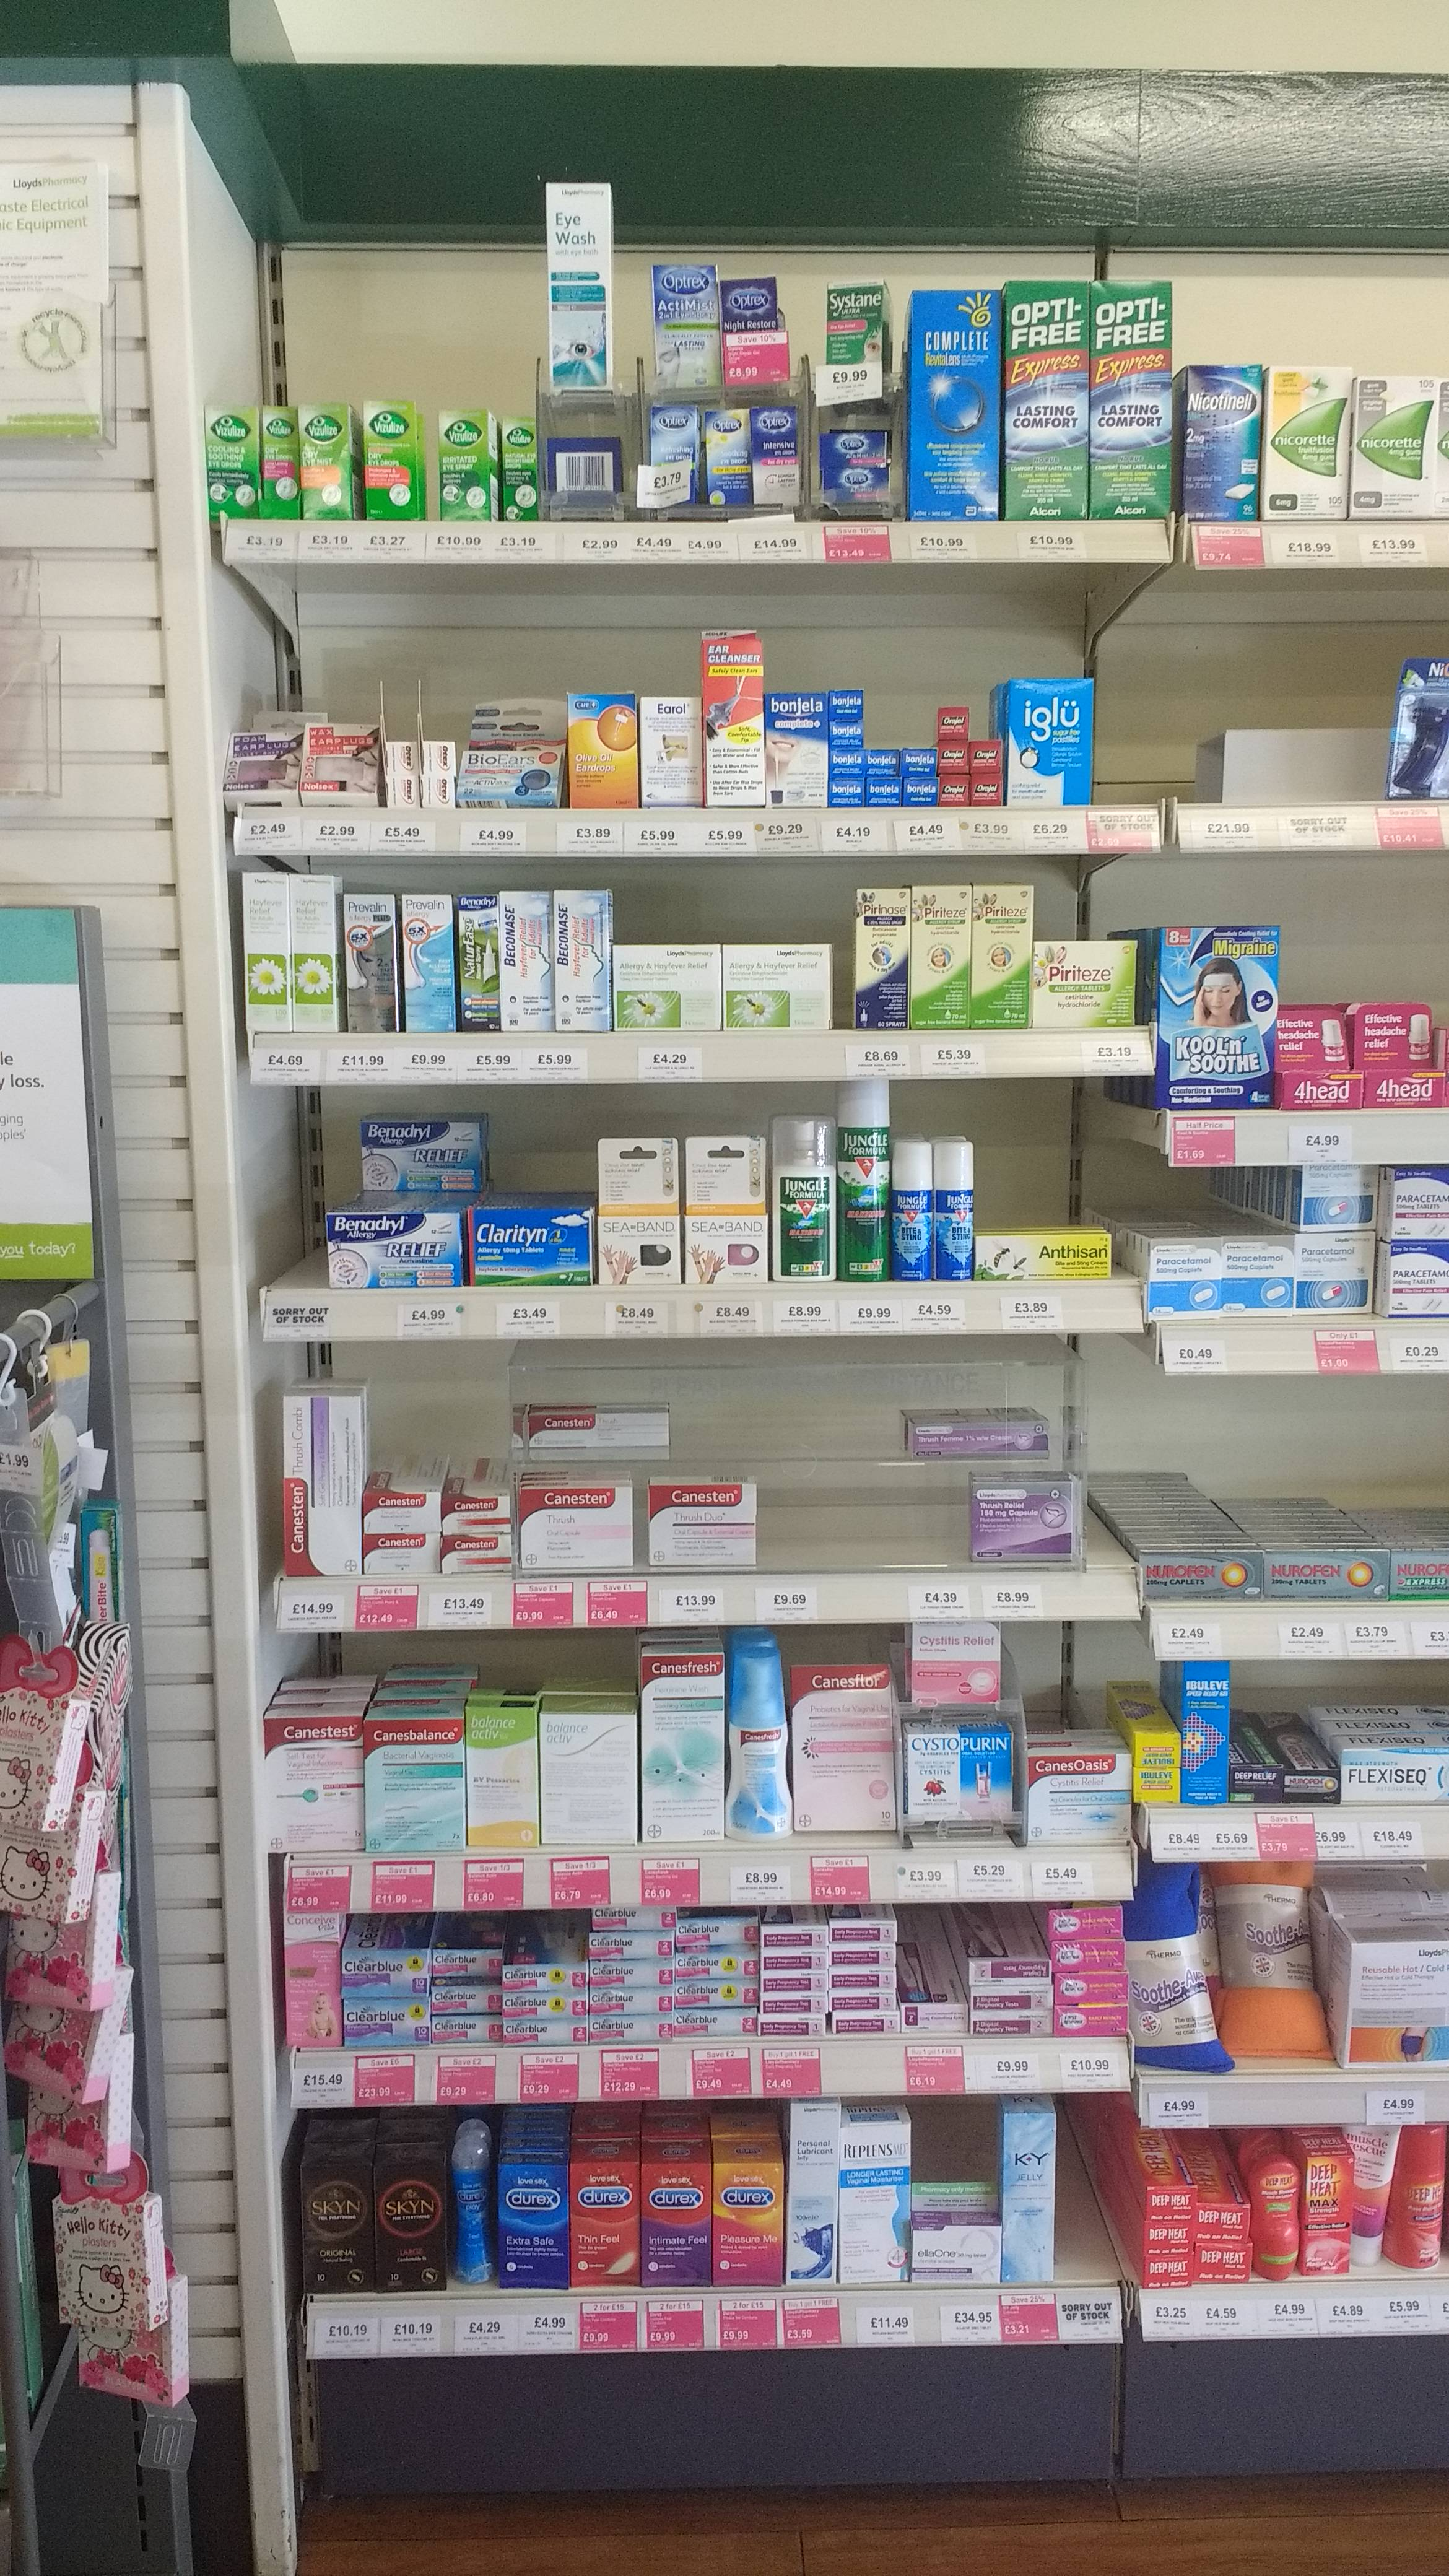product: (904, 292, 996, 517), (1161, 925, 1277, 1093), (1005, 287, 1085, 517), (1093, 280, 1168, 520), (637, 1656, 725, 1840), (800, 1665, 892, 1835), (260, 1720, 364, 1867), (1332, 1939, 1449, 2070), (1139, 1844, 1207, 2065), (281, 1398, 363, 1578), (1226, 1851, 1299, 2047), (547, 182, 612, 393), (366, 1716, 464, 1854), (1007, 678, 1099, 809), (543, 1716, 632, 1851), (1359, 380, 1445, 517), (1270, 363, 1346, 517), (1185, 368, 1260, 517), (685, 1138, 763, 1279), (842, 2123, 908, 2289), (605, 1138, 678, 1284), (326, 1214, 458, 1293), (295, 2155, 368, 2300), (842, 1072, 892, 1284), (464, 1707, 536, 1849), (768, 1122, 832, 1279), (1024, 1748, 1123, 1849), (1007, 2109, 1062, 2286), (736, 1649, 787, 1836), (522, 1488, 630, 1575), (573, 2157, 640, 2293), (973, 1477, 1083, 1560), (709, 642, 763, 812), (908, 1729, 1008, 1817), (375, 2162, 444, 2291), (283, 1898, 341, 2051), (915, 2185, 1000, 2289), (363, 1120, 485, 1192), (718, 269, 793, 387), (614, 947, 720, 1028), (640, 2157, 708, 2284), (724, 943, 830, 1023), (649, 1488, 759, 1564), (1355, 1012, 1447, 1102), (1391, 2130, 1449, 2272), (506, 2157, 566, 2293), (472, 1214, 584, 1284), (520, 1407, 676, 1456), (975, 885, 1030, 1024), (1039, 939, 1129, 1024), (793, 2100, 833, 2288), (918, 886, 970, 1031), (499, 895, 552, 1035), (395, 895, 449, 1030), (824, 281, 885, 402), (577, 695, 637, 816), (1295, 1235, 1380, 1318), (915, 1622, 1000, 1706), (860, 892, 913, 1024), (640, 692, 699, 812), (290, 878, 336, 1030), (557, 892, 609, 1028), (724, 2162, 777, 2289), (244, 872, 287, 1031), (662, 267, 717, 387), (460, 748, 563, 812), (299, 407, 354, 525), (221, 725, 299, 809), (1187, 1656, 1228, 1813), (363, 405, 418, 520), (541, 435, 614, 522), (437, 416, 488, 538), (299, 727, 372, 812), (1265, 1552, 1389, 1601), (771, 697, 824, 812), (1143, 1555, 1265, 1603), (203, 409, 253, 525), (980, 1237, 1109, 1281), (453, 2139, 490, 2289), (1307, 2151, 1352, 2275), (1217, 1238, 1290, 1313), (655, 402, 701, 518), (1288, 1024, 1350, 1111), (1302, 1164, 1382, 1230), (372, 1495, 435, 1575), (915, 1419, 1049, 1456), (1345, 1741, 1417, 1808), (706, 410, 750, 520), (1261, 2150, 1300, 2273), (895, 1146, 929, 1288), (460, 893, 494, 1031), (1355, 2120, 1387, 2265), (936, 1143, 970, 1279), (755, 407, 798, 513), (1152, 1244, 1210, 1320), (349, 1996, 430, 2047), (1391, 1244, 1449, 1315), (446, 1497, 499, 1575), (363, 893, 393, 1028), (828, 432, 878, 508), (343, 1950, 425, 1994), (1392, 1171, 1447, 1230), (1131, 1737, 1180, 1798), (265, 414, 294, 513), (499, 425, 527, 520), (1051, 1904, 1129, 1937), (425, 736, 456, 814), (504, 2017, 584, 2047), (1054, 1943, 1125, 1976), (508, 1960, 584, 1990), (587, 1932, 672, 1959), (380, 738, 412, 809), (1058, 2005, 1132, 2035), (596, 1902, 678, 1928), (433, 1983, 499, 2015), (1058, 1974, 1131, 2003), (596, 1962, 671, 1989), (679, 1985, 752, 2012), (1235, 1764, 1283, 1803), (508, 1992, 582, 2017), (679, 2013, 754, 2038), (1200, 2250, 1253, 2284), (596, 2017, 662, 2043), (1205, 2190, 1237, 2242), (433, 2019, 499, 2043), (973, 2013, 1056, 2033), (970, 1964, 1046, 1985), (1288, 1769, 1336, 1803), (433, 1953, 499, 1976), (763, 1973, 823, 1997), (977, 1992, 1049, 2012), (768, 1928, 824, 1953), (593, 1990, 671, 2008), (1152, 2215, 1192, 2247), (764, 1951, 826, 1971), (1146, 2259, 1191, 2286), (833, 1925, 893, 1944), (692, 1959, 740, 1982), (833, 1971, 893, 1989), (830, 690, 865, 720), (766, 2019, 832, 2035), (1155, 2181, 1196, 2206), (833, 1951, 895, 1967), (904, 748, 938, 777), (908, 2010, 959, 2028), (971, 775, 1003, 803), (830, 778, 865, 803), (943, 709, 973, 738), (975, 738, 1000, 771), (775, 1997, 832, 2012), (842, 2013, 890, 2029), (844, 1992, 888, 2008), (835, 724, 862, 750), (874, 748, 902, 773), (869, 786, 901, 807), (835, 755, 865, 777), (908, 782, 938, 803), (945, 741, 968, 768), (945, 775, 966, 803)
